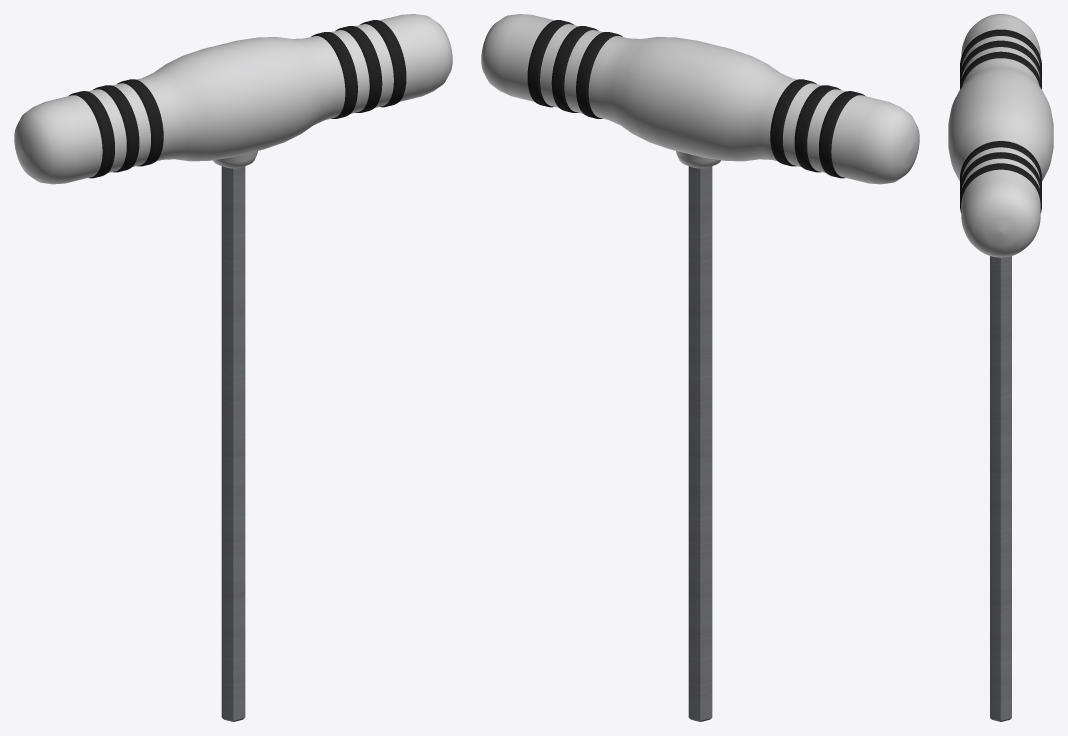
The model's file is tee_handle_allen_key_5mm.glb.
3 renders of one model, left to right at view 1: azimuth 30°, elevation 25°; view 2: azimuth 150°, elevation 25°; view 3: azimuth 270°, elevation 25°, orthographic. The views are drawn at different scales.
Visible parts, largest first — view 1: TeeHandle_AllenKey_5mm; view 2: TeeHandle_AllenKey_5mm; view 3: TeeHandle_AllenKey_5mm.
Boxes of the visible parts, x1,y1,x2,y2 form: TeeHandle_AllenKey_5mm: (14, 14, 452, 721); TeeHandle_AllenKey_5mm: (481, 14, 919, 721); TeeHandle_AllenKey_5mm: (948, 14, 1053, 721).
Size of the model in its own units: 0.104 by 0.158 by 0.024.
3 materials, 1 textured.
